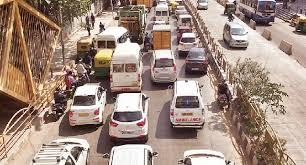ambulance: (168, 79, 207, 131)
bus: (109, 41, 146, 94), (149, 50, 178, 85), (97, 26, 130, 56), (238, 0, 276, 26), (153, 4, 169, 25)
car: (109, 93, 151, 142), (68, 81, 109, 129), (29, 137, 91, 165), (102, 141, 160, 165), (178, 149, 236, 165), (223, 21, 250, 50), (183, 46, 209, 76), (178, 31, 199, 57), (176, 14, 194, 33)
motorcycle: (49, 87, 70, 122), (63, 70, 81, 98), (75, 57, 92, 85)
truck: (116, 4, 149, 43), (152, 23, 173, 51)
